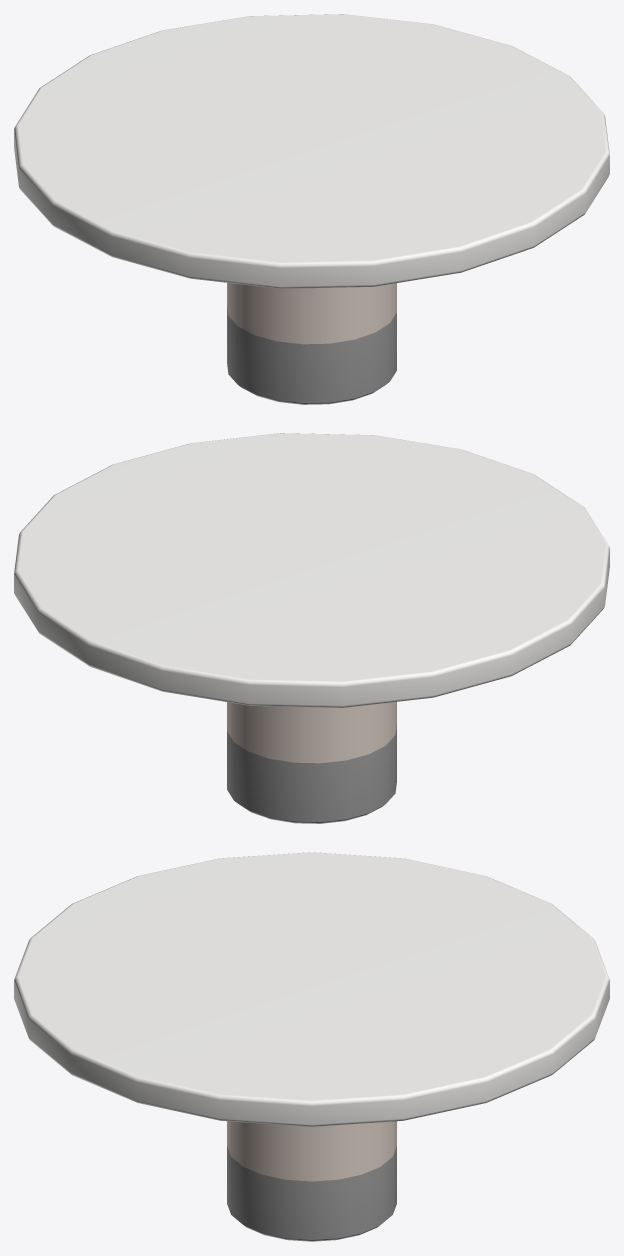
Rendered from Table_8.glb.
The picture shows the model from 3 angles, top to bottom: view 1: azimuth 30°, elevation 25°; view 2: azimuth 150°, elevation 25°; view 3: azimuth 270°, elevation 25°; orthographic projection.
Parts seen in each view (by area): view 1: Table_8; view 2: Table_8; view 3: Table_8.
Boxes of the visible parts, x1=… form: Table_8: x1=14, y1=14, x2=609, y2=404; Table_8: x1=14, y1=433, x2=609, y2=823; Table_8: x1=14, y1=852, x2=609, y2=1241.
Size of the model in its own units: 1.14 by 0.4869 by 1.14.
Materials: 2 (2 with a texture image).
